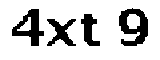4: (9, 6, 45, 48)
9: (115, 6, 151, 50)
t: (80, 12, 103, 48)
x: (45, 16, 79, 48)
